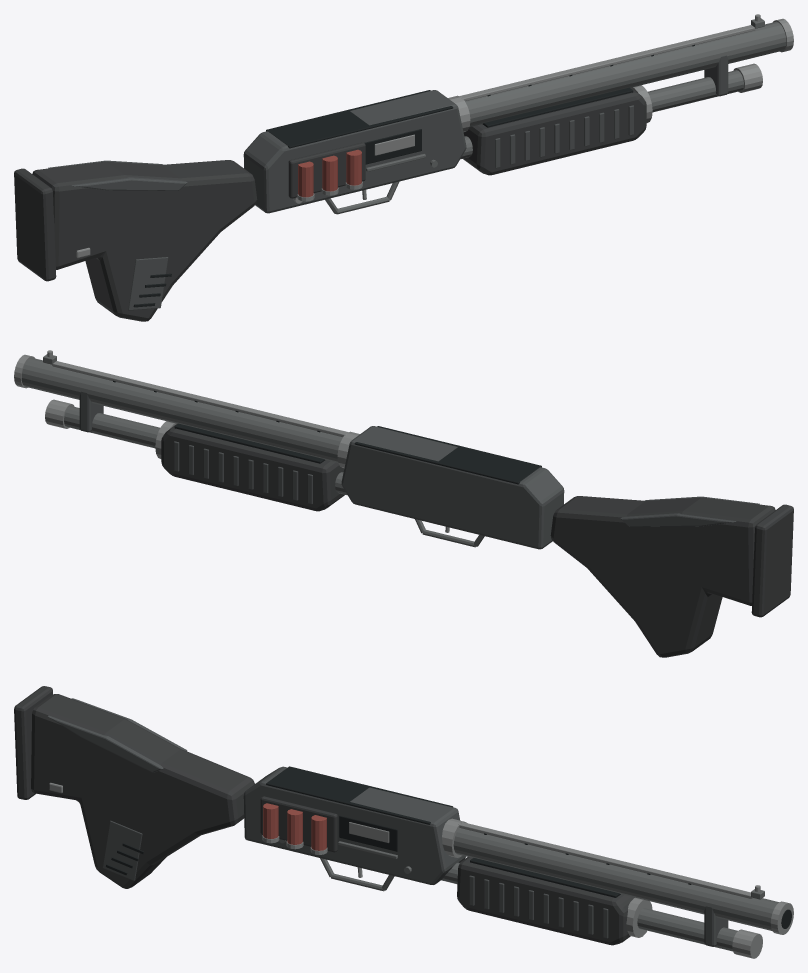
Rendered from shotgun.glb.
3 views of the same model, one above another, from view 1: azimuth 30°, elevation 25°; view 2: azimuth 150°, elevation 25°; view 3: azimuth 330°, elevation 25° (orthographic).
Parts seen in each view (by area): view 1: shotgun 03 Polymer furniture, shotgun 02 Anodized receiver, shotgun 01 Parkerized steel, shotgun 05 Recesses, shotgun 04 Metal accents, shotgun 06 Shell hulls; view 2: shotgun 03 Polymer furniture, shotgun 02 Anodized receiver, shotgun 01 Parkerized steel, shotgun 04 Metal accents, shotgun 05 Recesses; view 3: shotgun 03 Polymer furniture, shotgun 02 Anodized receiver, shotgun 01 Parkerized steel, shotgun 04 Metal accents, shotgun 05 Recesses, shotgun 06 Shell hulls.
Boxes of the visible parts, x1,y1,x2,y2 form: shotgun 03 Polymer furniture: (14,88,646,321); shotgun 02 Anodized receiver: (48,55,728,310); shotgun 01 Parkerized steel: (325,18,786,214); shotgun 05 Recesses: (133,44,694,307); shotgun 04 Metal accents: (76,14,793,258); shotgun 06 Shell hulls: (298,149,361,197); shotgun 03 Polymer furniture: (161,424,793,657); shotgun 02 Anodized receiver: (79,391,759,549); shotgun 01 Parkerized steel: (21,354,484,547); shotgun 04 Metal accents: (14,350,449,532); shotgun 05 Recesses: (113,380,541,484); shotgun 03 Polymer furniture: (14,686,634,945); shotgun 02 Anodized receiver: (48,698,728,946); shotgun 01 Parkerized steel: (279,828,778,951); shotgun 04 Metal accents: (49,782,793,958); shotgun 05 Recesses: (106,766,791,928); shotgun 06 Shell hulls: (263,803,326,850).
Bounding box in the file's own units: 1.23 × 0.2477 × 0.103.
